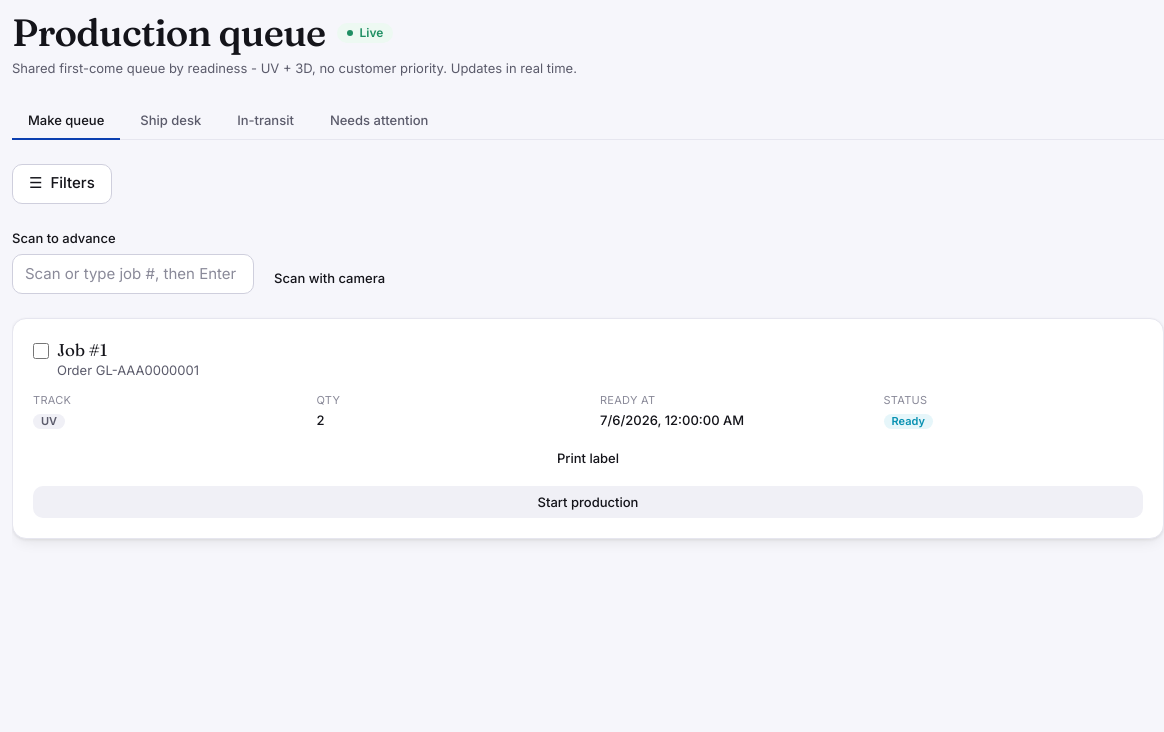
Ship desk empty state reads "nothing ready to ship", not the make copy
This screenshot has width=1164, height=732.
Click the tab "Ship desk" at (171, 121), box [124,102,217,140]
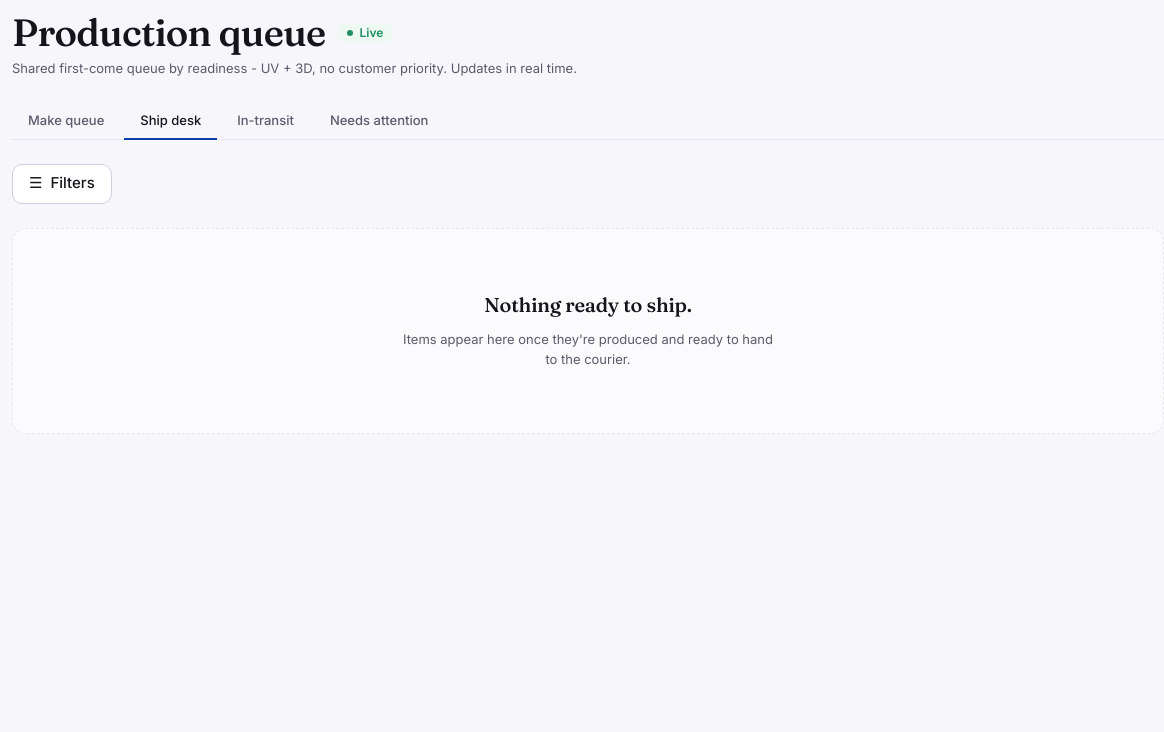
expect the heading "Nothing ready to ship." is shown: met, box [484,293,692,317]
